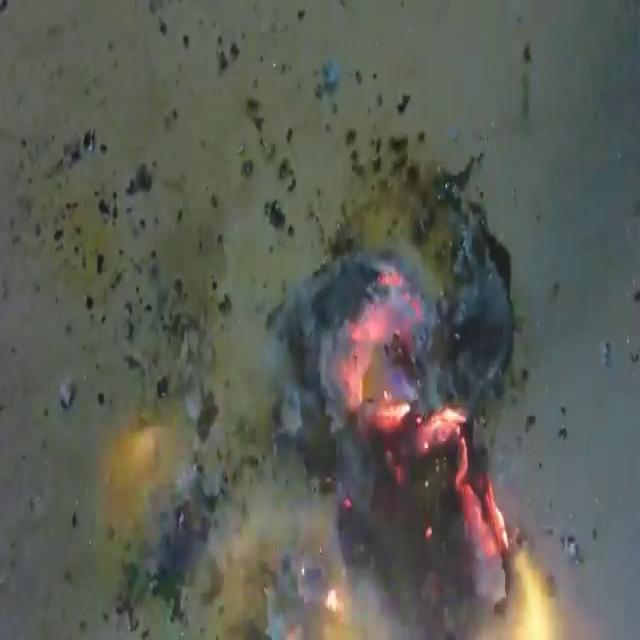Fire: (70, 63, 594, 640)
